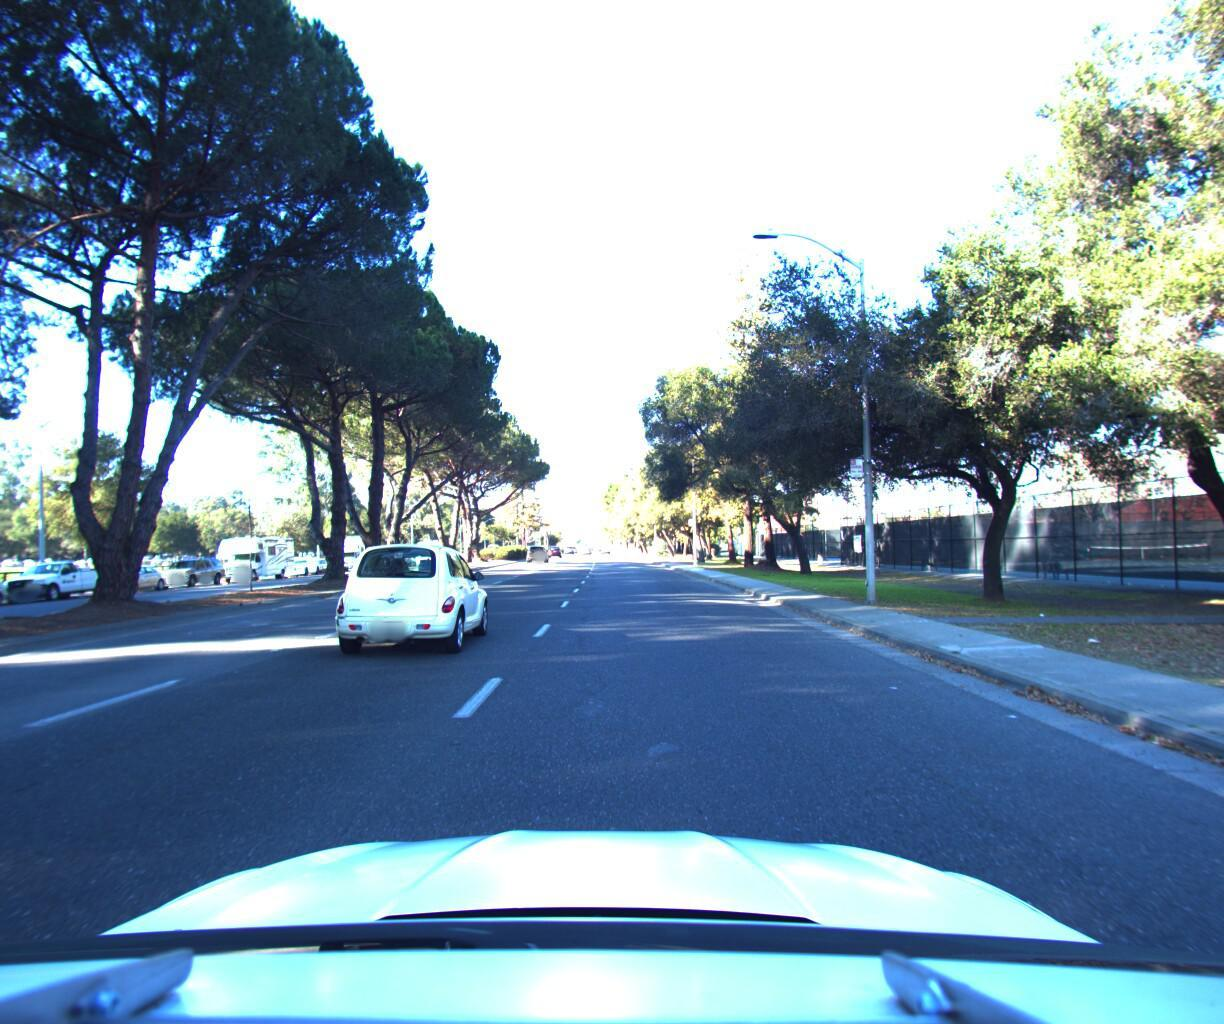car: (318, 540, 498, 665), (0, 555, 122, 606), (154, 554, 233, 590), (95, 562, 176, 597), (0, 571, 22, 616), (283, 556, 325, 577), (526, 542, 549, 563)
other_vehicle: (213, 530, 300, 583), (329, 532, 378, 571)
